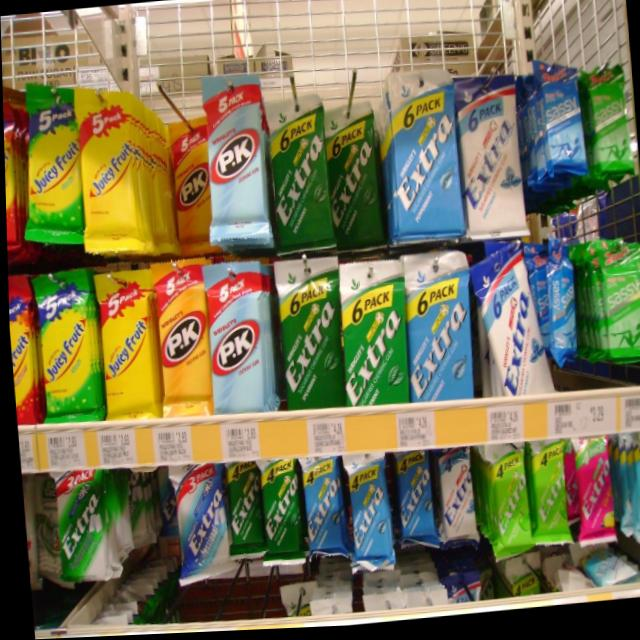q94: (453, 70, 529, 256), (470, 259, 547, 404), (432, 447, 477, 548)
